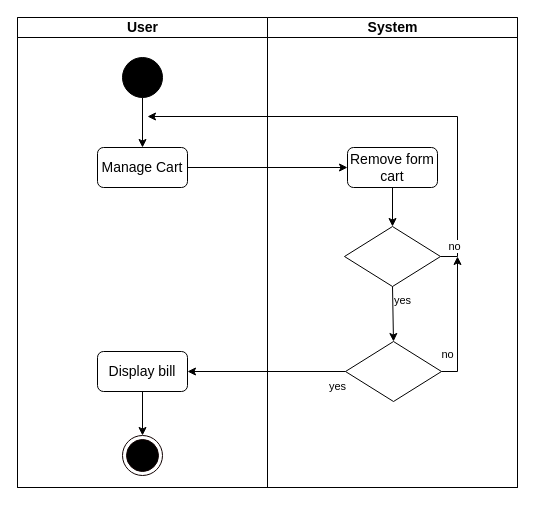
Some shapes in this 535 by 505 pixel diagram are drawn without their labels. Here are the shapes that lost their labels. From the top down, the centre of each, then its label:
the point at 392,256: if removed
the point at 393,371: if checkout
